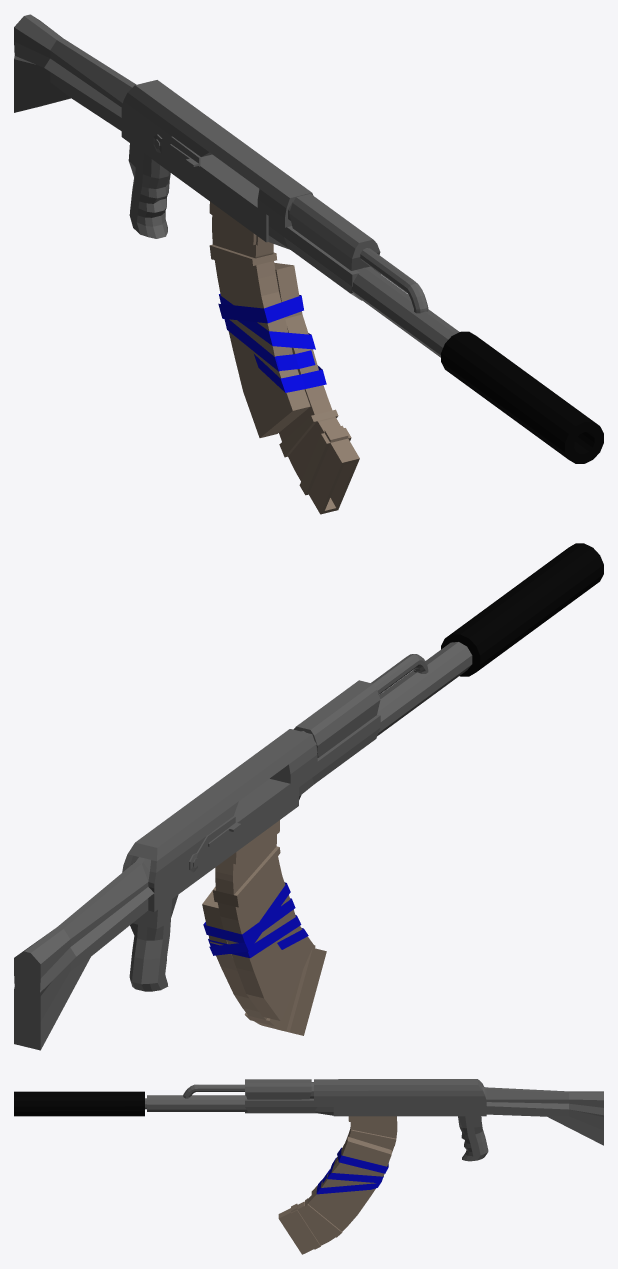
Rendered from АКА1.fbx.
3 views of the same model, one above another, from view 1: azimuth 30°, elevation 25°; view 2: azimuth 150°, elevation 25°; view 3: azimuth 270°, elevation 25° (orthographic). The views are drawn at different scales.
Visible parts, largest first — view 1: Куб.003, Куб.001; view 2: Куб.003, Куб.001; view 3: Куб.003, Куб.001.
Part boxes in pixels (left/top/right/bottom): Куб.003: left=14, top=14, right=603, bottom=463; Куб.001: left=209, top=201, right=359, bottom=514; Куб.003: left=14, top=543, right=603, bottom=1050; Куб.001: left=202, top=820, right=326, bottom=1035; Куб.003: left=14, top=1079, right=603, bottom=1161; Куб.001: left=278, top=1116, right=397, bottom=1254.
Bounding box in the file's own units: 153 × 858 × 2747.
